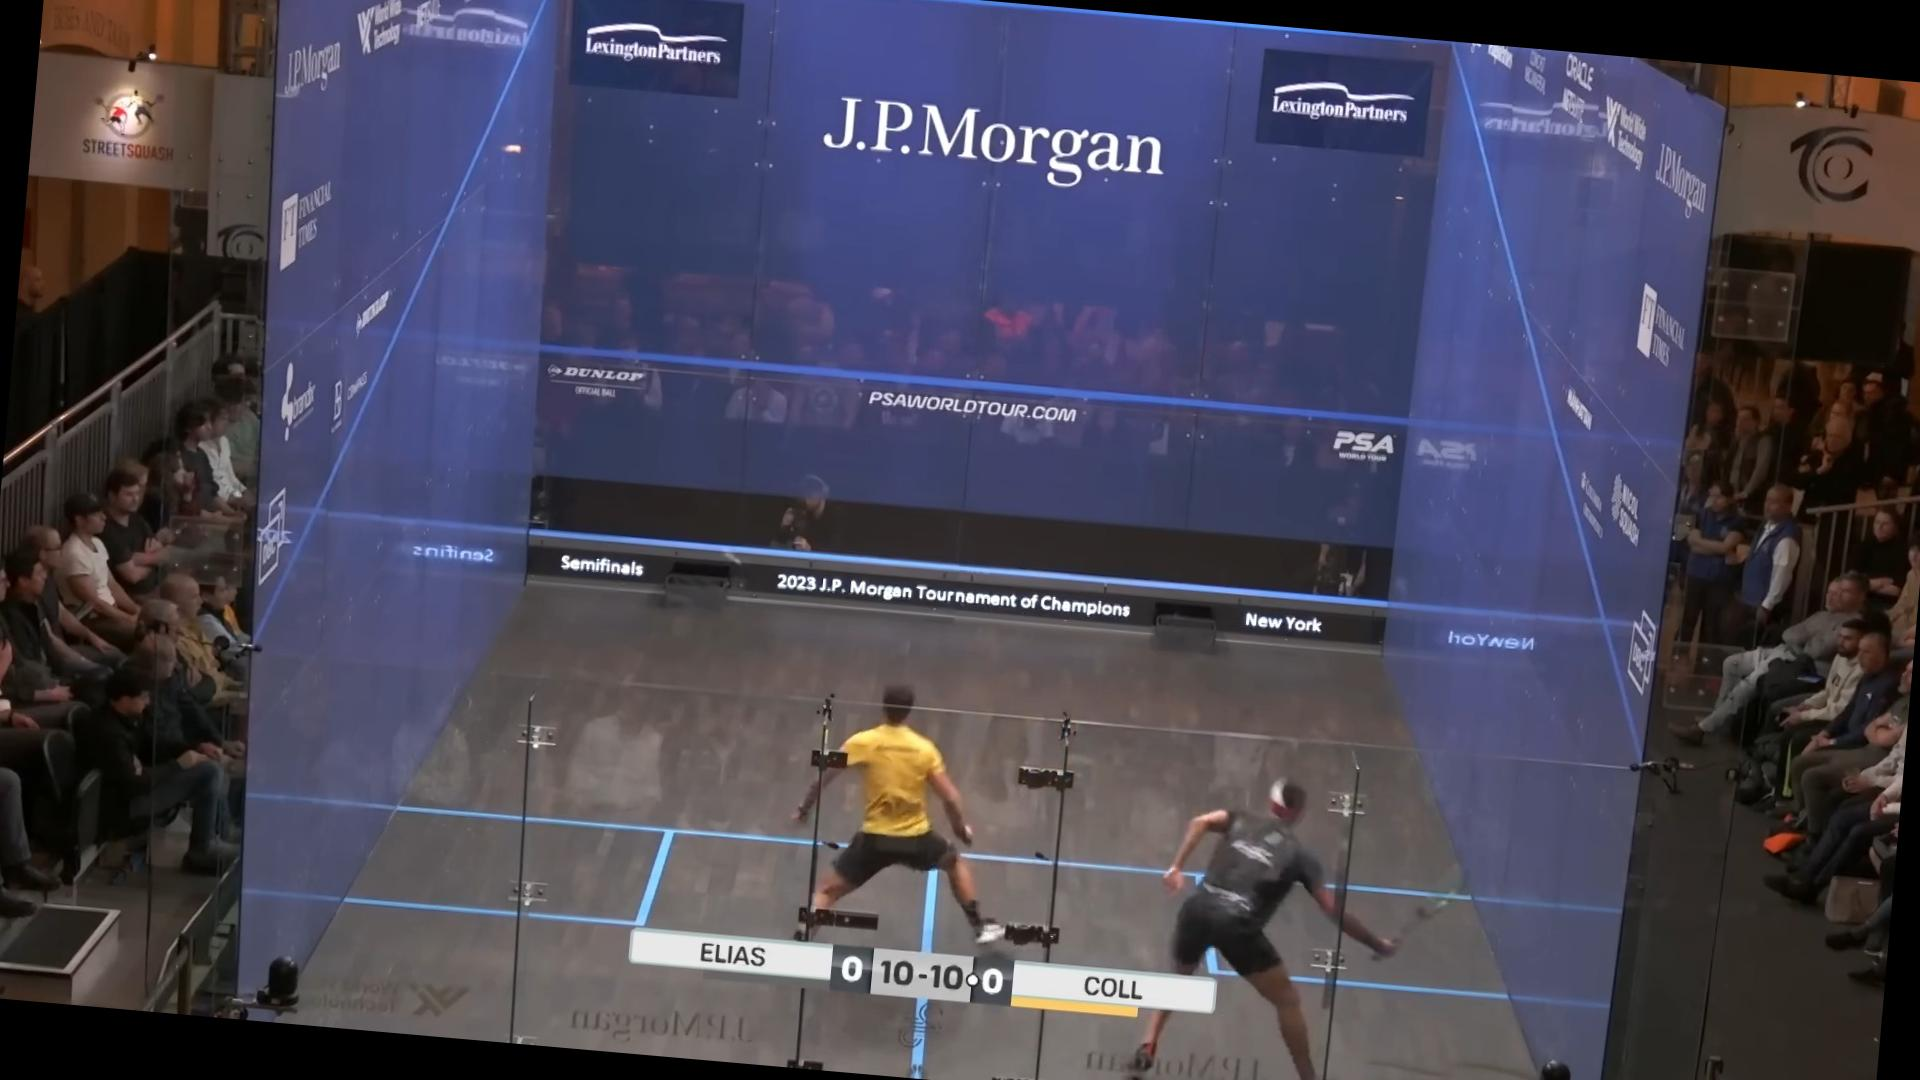Racket: (1381, 839, 1484, 944)
